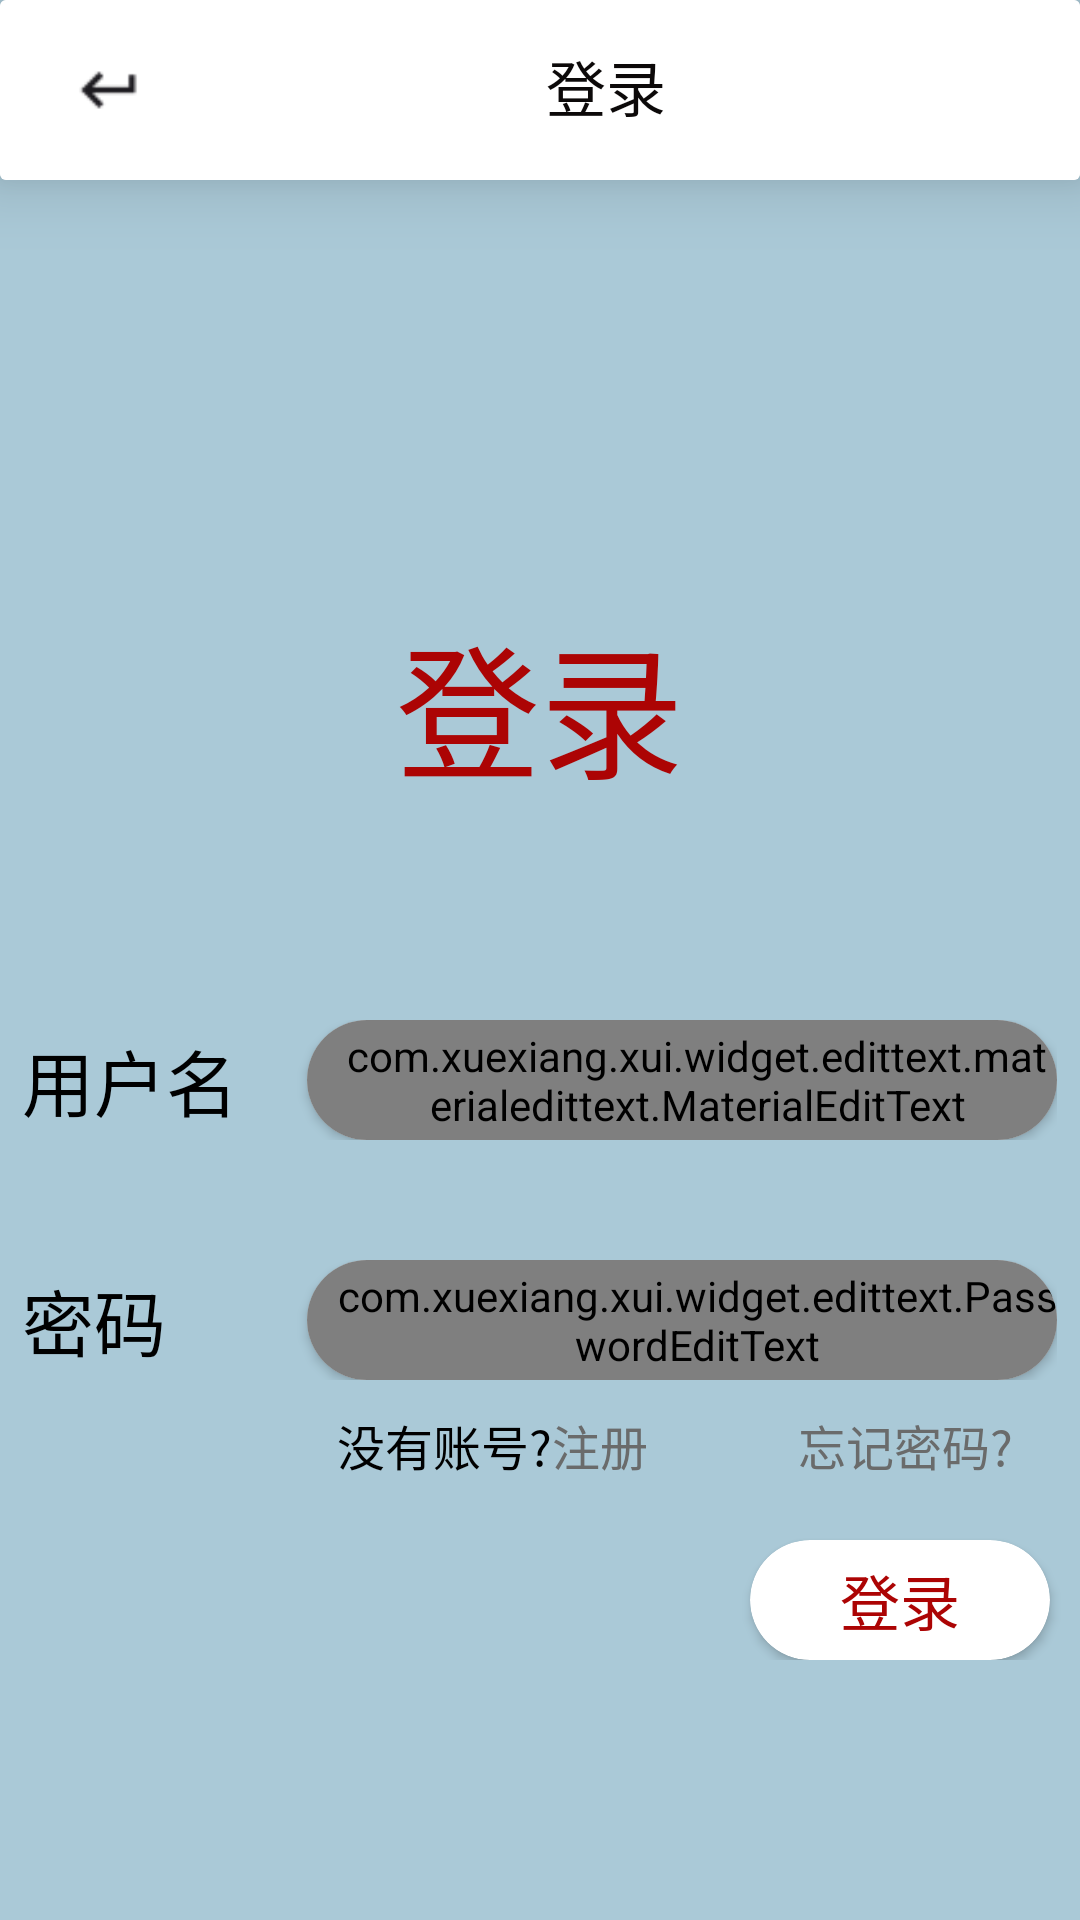

Point at icon controls on the screen. Image size 1080w x 1920h, points as [x,y].
top bar back: [109,90]
